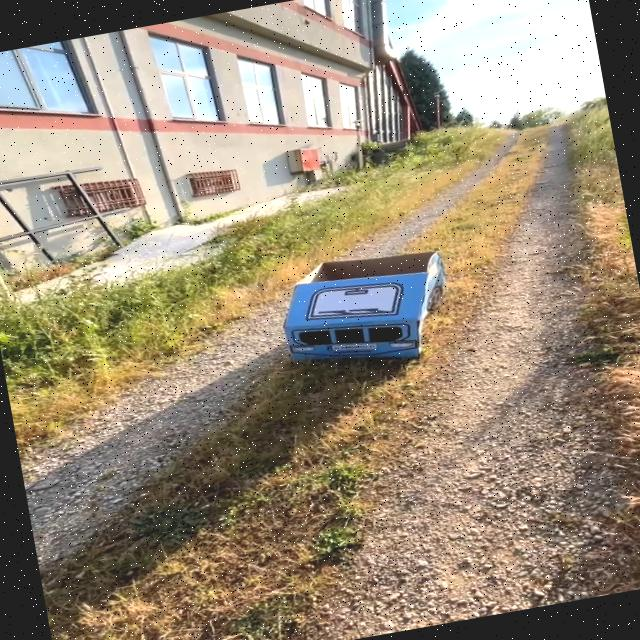blue_car: (232, 213, 516, 419)
